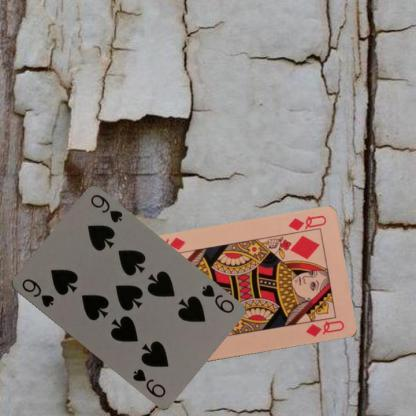9s: (198, 281, 235, 315), (18, 276, 56, 309)
Qd: (284, 213, 328, 237)
